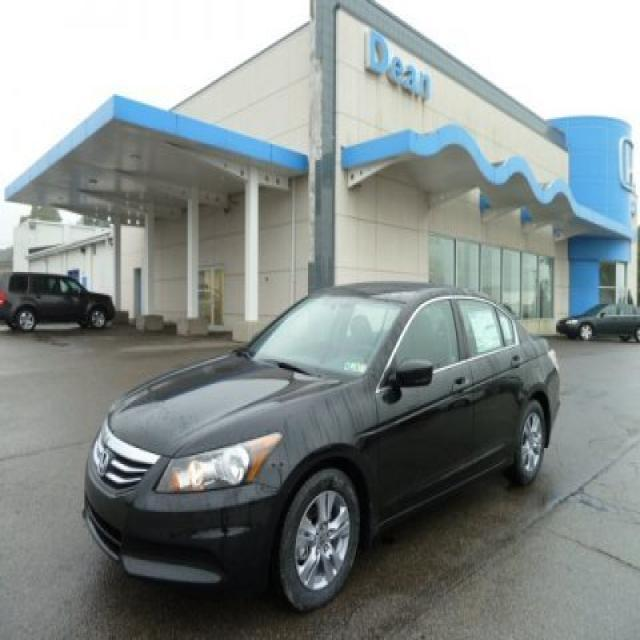car: (88, 282, 583, 612), (1, 270, 117, 332), (556, 302, 639, 344)
